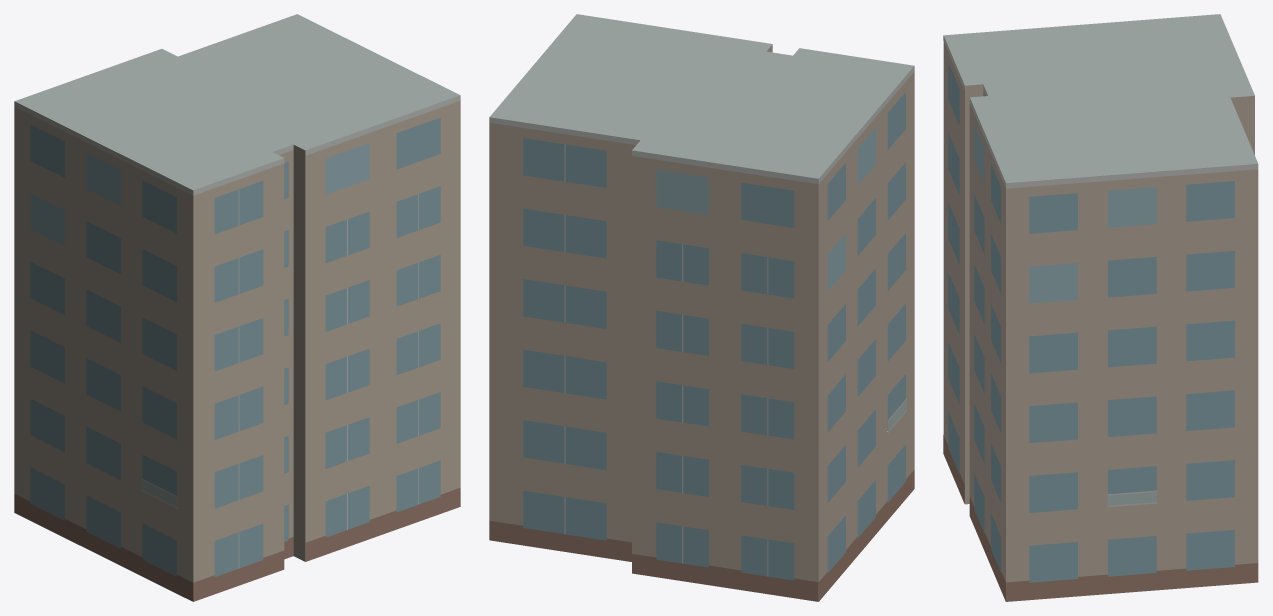
The model's file is survey-upis-33022225.glb.
3 renders of one model, left to right at view 1: azimuth 30°, elevation 25°; view 2: azimuth 150°, elevation 25°; view 3: azimuth 270°, elevation 25°, orthographic. The views are drawn at different scales.
Visible parts, largest first — view 1: survey-upis-33022225.tmp; view 2: survey-upis-33022225.tmp; view 3: survey-upis-33022225.tmp.
Boxes of the visible parts, box(x1,y1,x2,y2) form: survey-upis-33022225.tmp: box(14, 14, 460, 601); survey-upis-33022225.tmp: box(489, 14, 914, 601); survey-upis-33022225.tmp: box(943, 14, 1258, 601).
Size of the model in its own units: 16.22 by 18.7 by 12.76.
